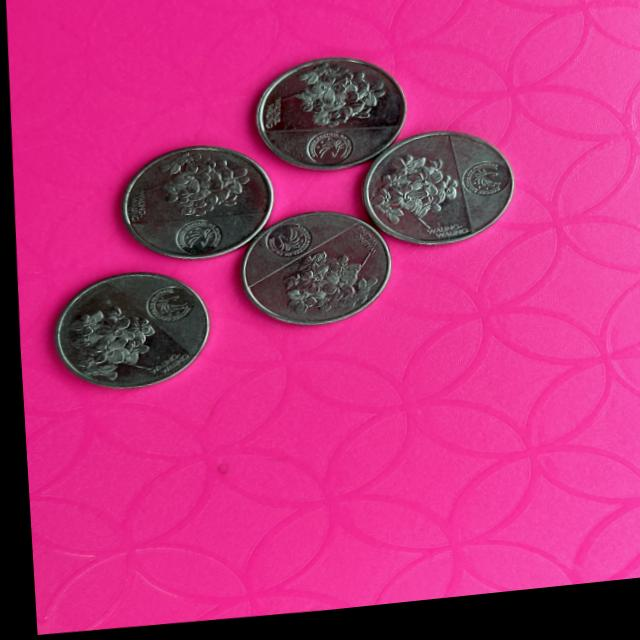1_New_Back: (365, 151, 470, 255), (288, 59, 391, 139), (280, 249, 376, 323), (67, 305, 156, 383), (152, 160, 254, 226)
